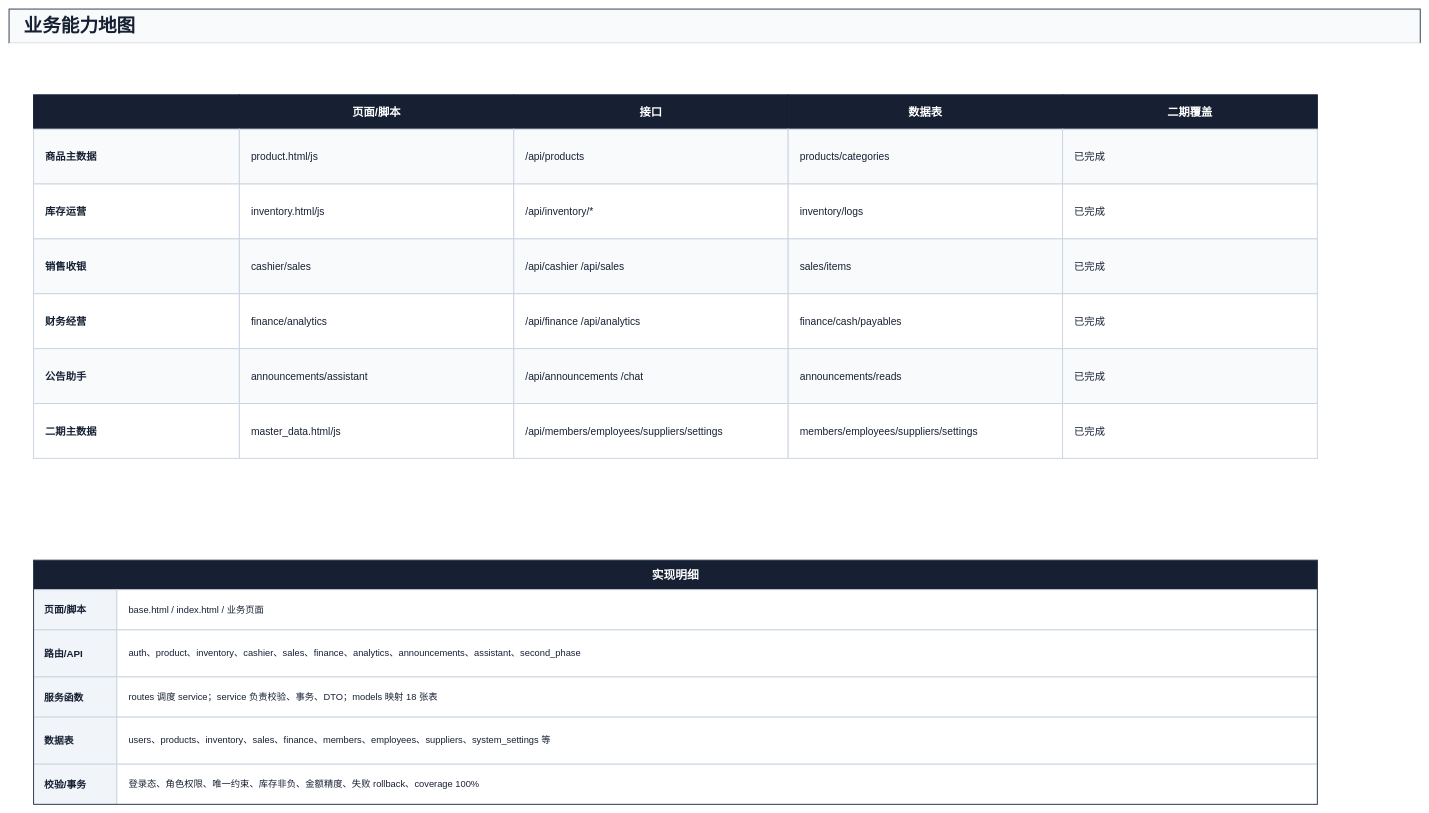
This 1429x813 diagram has some shape labels left out. The shapes that lost their labels are listed below. From the top down, each one's centre as x and y in pixels, then its label:
At point (714, 53): "矩阵图｜职责、实现入口、验收证据".
At point (136, 111): "能力域".
